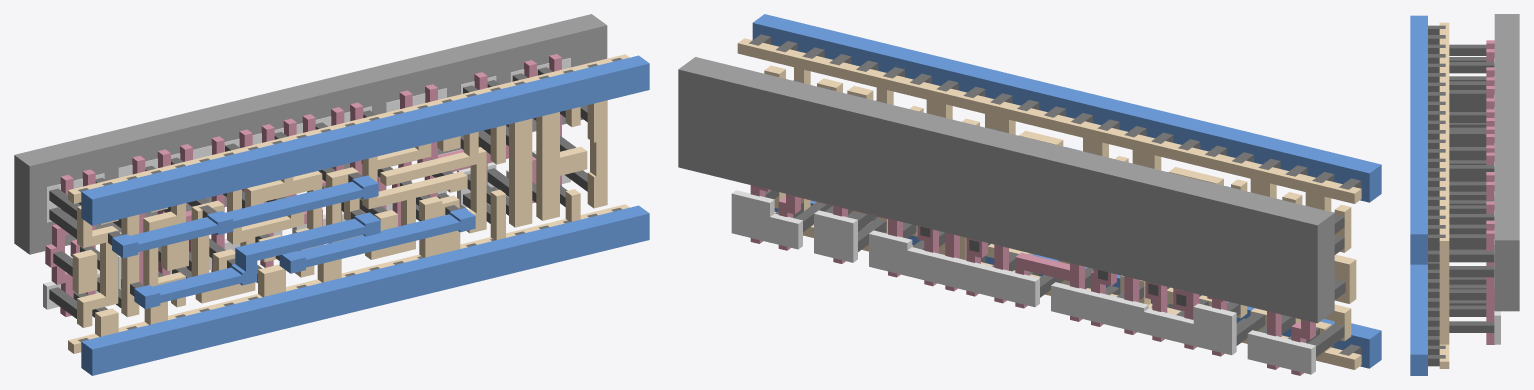
The model's file is sky130_fd_sc_hd__dfsbp_1.gds.gltf.
The picture shows the model from 3 angles, left to right: view 1: azimuth 30°, elevation 25°; view 2: azimuth 150°, elevation 25°; view 3: azimuth 270°, elevation 25°; orthographic projection. The views are drawn at different scales.
Parts seen in each view (by area): view 1: sky130_fd_sc_hd__dfsbp_1_met1, sky130_fd_sc_hd__dfsbp_1_li1, sky130_fd_sc_hd__dfsbp_1_nwell, sky130_fd_sc_hd__dfsbp_1_poly, sky130_fd_sc_hd__dfsbp_1_licon, sky130_fd_sc_hd__dfsbp_1_diff, sky130_fd_sc_hd__dfsbp_1_mcon; view 2: sky130_fd_sc_hd__dfsbp_1_nwell, sky130_fd_sc_hd__dfsbp_1_li1, sky130_fd_sc_hd__dfsbp_1_diff, sky130_fd_sc_hd__dfsbp_1_met1, sky130_fd_sc_hd__dfsbp_1_poly, sky130_fd_sc_hd__dfsbp_1_licon, sky130_fd_sc_hd__dfsbp_1_mcon; view 3: sky130_fd_sc_hd__dfsbp_1_licon, sky130_fd_sc_hd__dfsbp_1_nwell, sky130_fd_sc_hd__dfsbp_1_met1, sky130_fd_sc_hd__dfsbp_1_mcon, sky130_fd_sc_hd__dfsbp_1_li1, sky130_fd_sc_hd__dfsbp_1_poly, sky130_fd_sc_hd__dfsbp_1_diff.
Boxes of the visible parts, x1=… form: sky130_fd_sc_hd__dfsbp_1_met1: x1=81, y1=55, x2=649, y2=375; sky130_fd_sc_hd__dfsbp_1_li1: x1=68, y1=54, x2=629, y2=353; sky130_fd_sc_hd__dfsbp_1_nwell: x1=14, y1=14, x2=607, y2=254; sky130_fd_sc_hd__dfsbp_1_poly: x1=45, y1=54, x2=561, y2=316; sky130_fd_sc_hd__dfsbp_1_licon: x1=49, y1=67, x2=587, y2=318; sky130_fd_sc_hd__dfsbp_1_diff: x1=43, y1=58, x2=570, y2=309; sky130_fd_sc_hd__dfsbp_1_mcon: x1=78, y1=58, x2=622, y2=342; sky130_fd_sc_hd__dfsbp_1_nwell: x1=678, y1=57, x2=1334, y2=323; sky130_fd_sc_hd__dfsbp_1_li1: x1=737, y1=38, x2=1361, y2=369; sky130_fd_sc_hd__dfsbp_1_diff: x1=731, y1=190, x2=1315, y2=374; sky130_fd_sc_hd__dfsbp_1_met1: x1=752, y1=14, x2=1381, y2=368; sky130_fd_sc_hd__dfsbp_1_poly: x1=750, y1=185, x2=1315, y2=375; sky130_fd_sc_hd__dfsbp_1_licon: x1=765, y1=80, x2=1345, y2=357; sky130_fd_sc_hd__dfsbp_1_mcon: x1=749, y1=34, x2=1361, y2=355; sky130_fd_sc_hd__dfsbp_1_licon: x1=1449, y1=44, x2=1494, y2=332; sky130_fd_sc_hd__dfsbp_1_nwell: x1=1494, y1=14, x2=1519, y2=311; sky130_fd_sc_hd__dfsbp_1_met1: x1=1410, y1=15, x2=1427, y2=375; sky130_fd_sc_hd__dfsbp_1_mcon: x1=1428, y1=25, x2=1445, y2=366; sky130_fd_sc_hd__dfsbp_1_li1: x1=1439, y1=22, x2=1449, y2=368; sky130_fd_sc_hd__dfsbp_1_poly: x1=1486, y1=40, x2=1494, y2=344; sky130_fd_sc_hd__dfsbp_1_diff: x1=1494, y1=58, x2=1500, y2=344.
Size of the model in its own units: 10.96 by 3.2 by 2.24.
